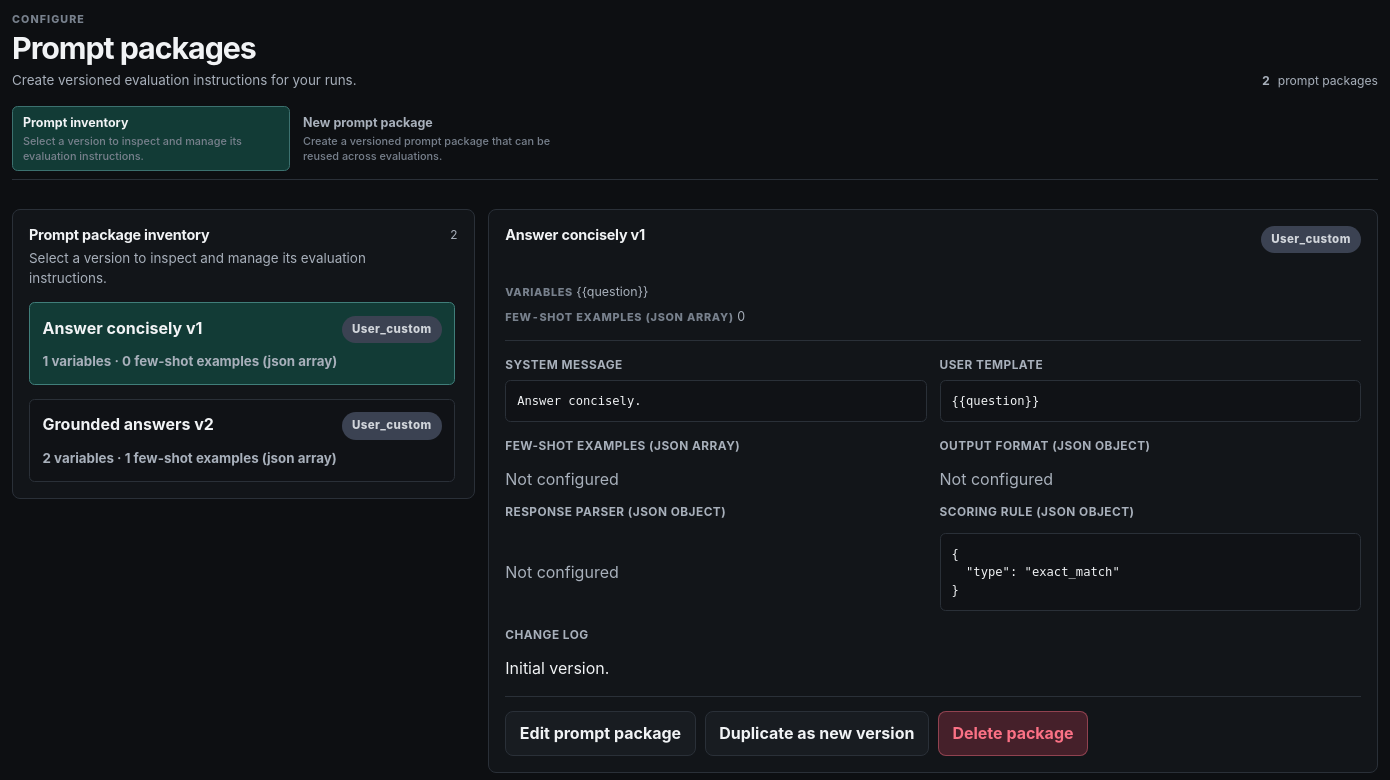
Test: PromptPackagesPage › uses tabs and a selected package inspector
Check: the tab "New prompt package" is shown, box [292,106,570,171]
Check: the text "Answer concisely." is shown, box [505,380,927,422]
Click the button "Grounded answers v2" at (116, 424), box [29,399,455,482]
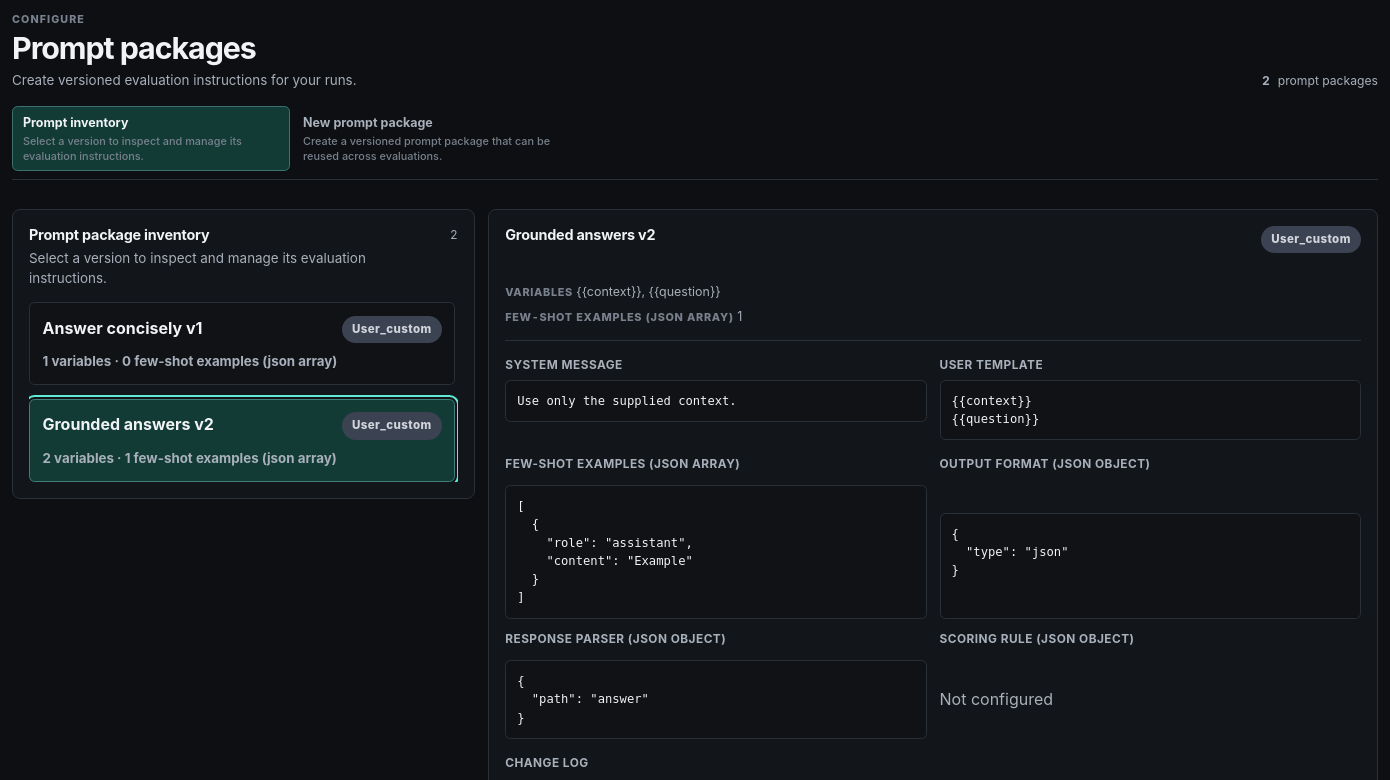
Check: the text "Use only the supplied context." is shown, box [505,380,927,422]
